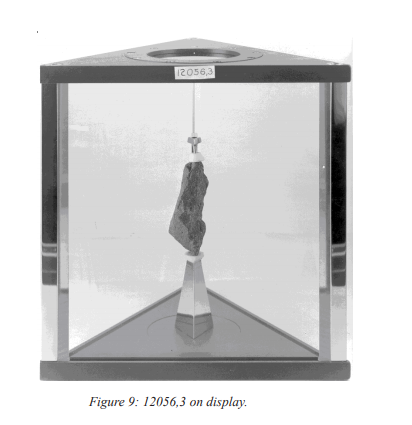Basalt: (172, 159, 223, 250)
